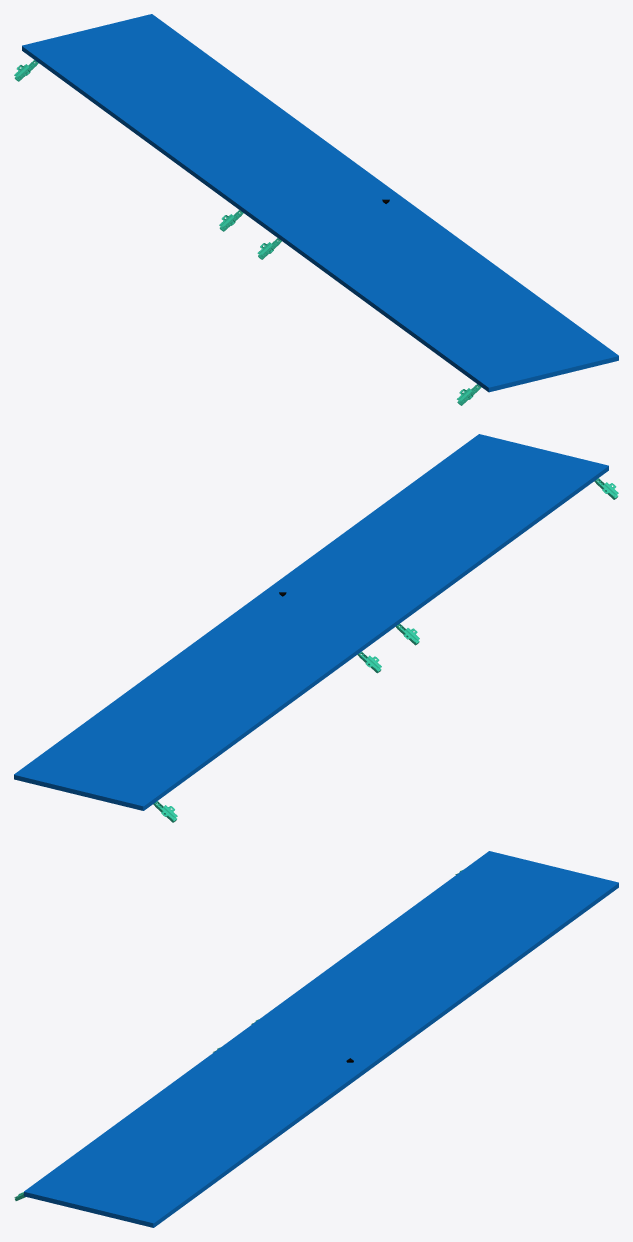
The model's file is dver_3_2.glb.
3 views of the same model, one above another, from view 1: azimuth 30°, elevation 25°; view 2: azimuth 150°, elevation 25°; view 3: azimuth 330°, elevation 25° (orthographic).
Visible parts, largest first — view 1: Box001; view 2: Box001; view 3: Box001.
Boxes of the visible parts, x1,y1,x2,y2 form: Box001: (22,14,618,392); Box001: (14,434,608,810); Box001: (24,851,618,1227).
Size of the model in its own units: 42.72 by 6.31 by 231.
